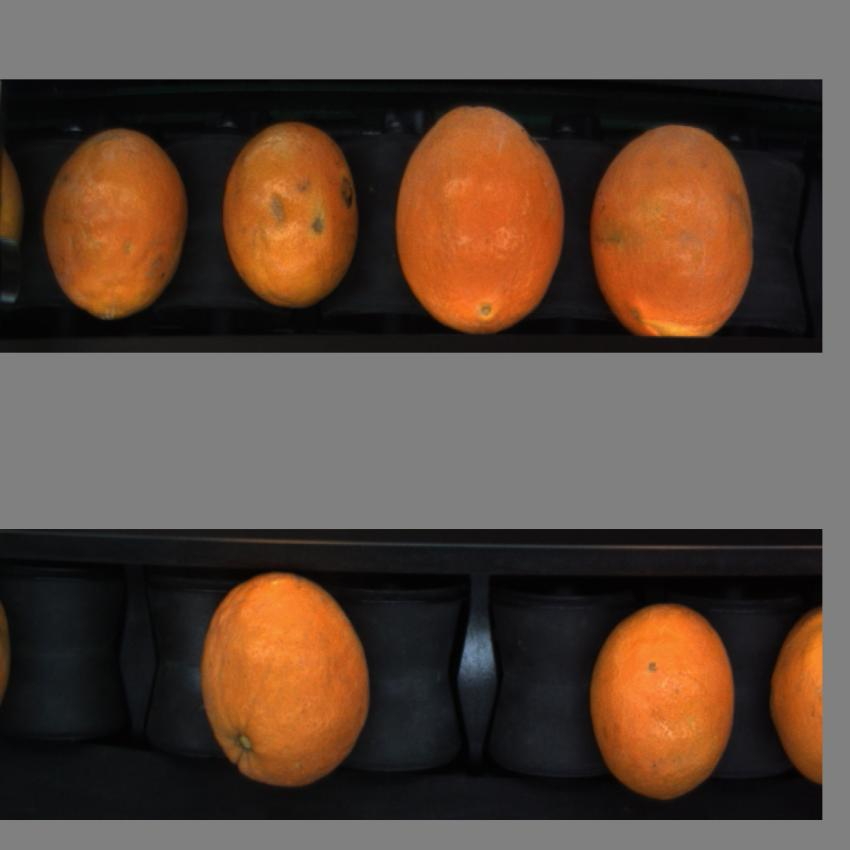Buen estado: (192, 567, 378, 783), (582, 594, 738, 802), (764, 601, 824, 787)
Mal estado: (393, 101, 568, 334), (586, 112, 760, 341), (38, 120, 201, 325), (219, 117, 366, 309)
